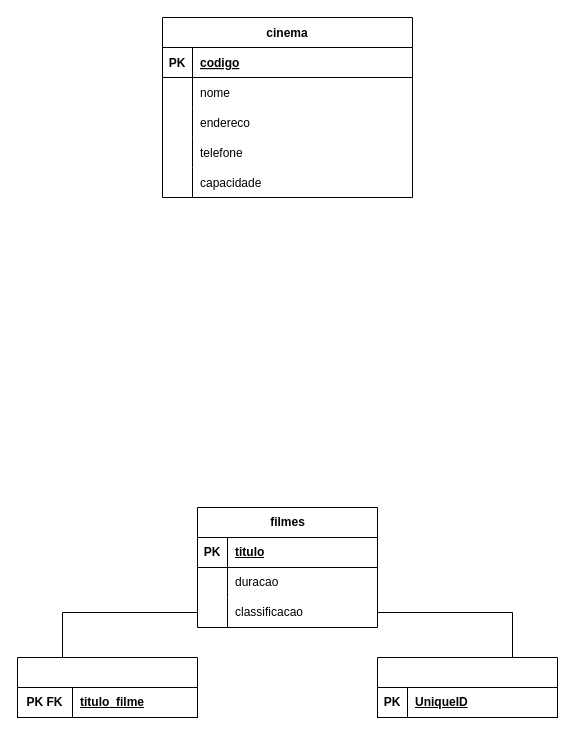
Some shapes in this 575 by 735 pixel diagram are drawn without their labels. The shapes that lost their labels are listed below. From the top down, each one's box as (x1, y1, x2, y2) in pixels, then its label:
(16, 656, 198, 718): filme_nacional
(376, 656, 558, 718): Table
